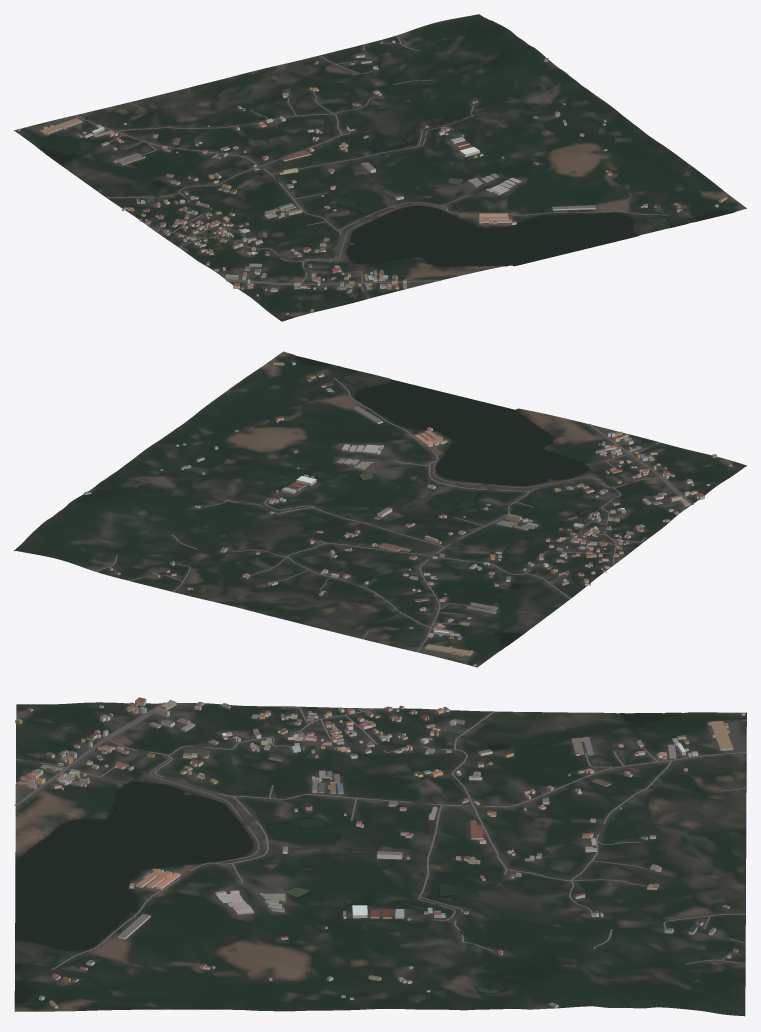
The picture shows the model from 3 angles, top to bottom: view 1: azimuth 30°, elevation 25°; view 2: azimuth 150°, elevation 25°; view 3: azimuth 270°, elevation 25°; orthographic projection. The views are drawn at different scales.
Parts seen in each view (by area): view 1: ground, water, buildings, roads; view 2: ground, water, buildings, roads; view 3: ground, water, buildings, roads.
Boxes of the visible parts, <box> form: ground: <box>14,14,746,321</box>; water: <box>39,84,731,266</box>; buildings: <box>17,40,727,314</box>; roads: <box>26,35,668,298</box>; ground: <box>14,351,746,667</box>; water: <box>133,356,588,649</box>; buildings: <box>84,361,732,666</box>; roads: <box>96,378,693,664</box>; ground: <box>14,702,746,1016</box>; water: <box>15,712,681,1002</box>; buildings: <box>15,697,745,1008</box>; roads: <box>14,702,746,970</box>.
Bounding box in the file's own units: 1412 × 42.9 × 1406.
